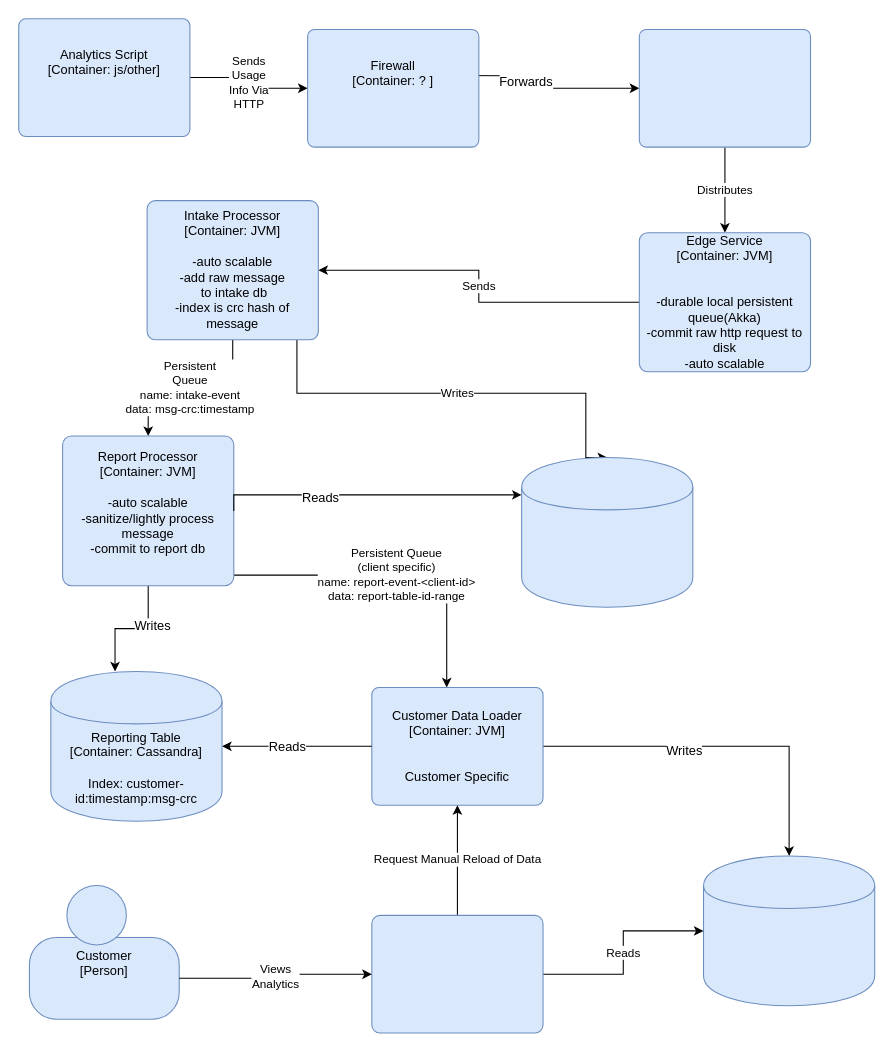
The diagram is 893 pixels wide and 1052 high, and some of its shapes have lost their labels. The box of each missing label's shape, as (x1, y1, x2, y2) in pixels:
Intake Table [Container: Cassandra] Index: msg-crc:timestamp: (521, 456, 693, 607)
Load Balancer [Container: ? ]: (638, 28, 811, 147)
Presentation DB [Container: RDBMS/TSDB/Other] Customer Specific: (702, 855, 875, 1006)
Presentation Web App [Software System] Customer Specific: (371, 914, 543, 1033)
